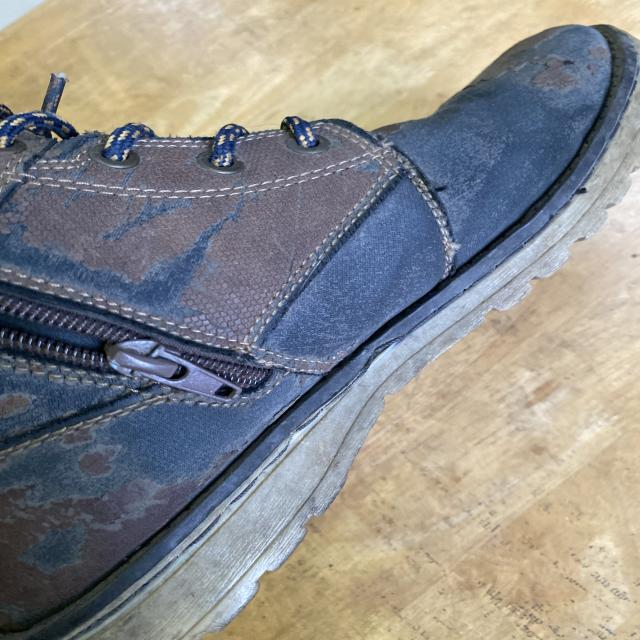broken: (426, 224, 476, 270)
